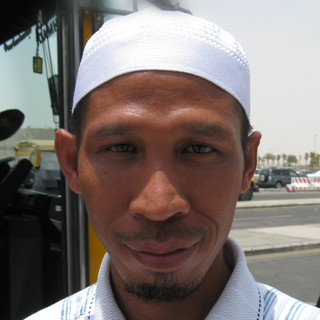eye: (175, 139, 224, 163), (96, 139, 146, 162)
